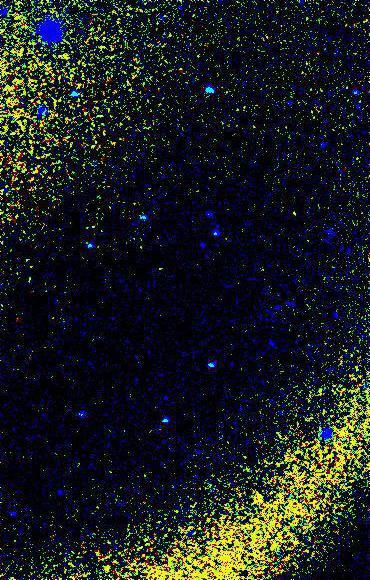star: (246, 487, 276, 517)
